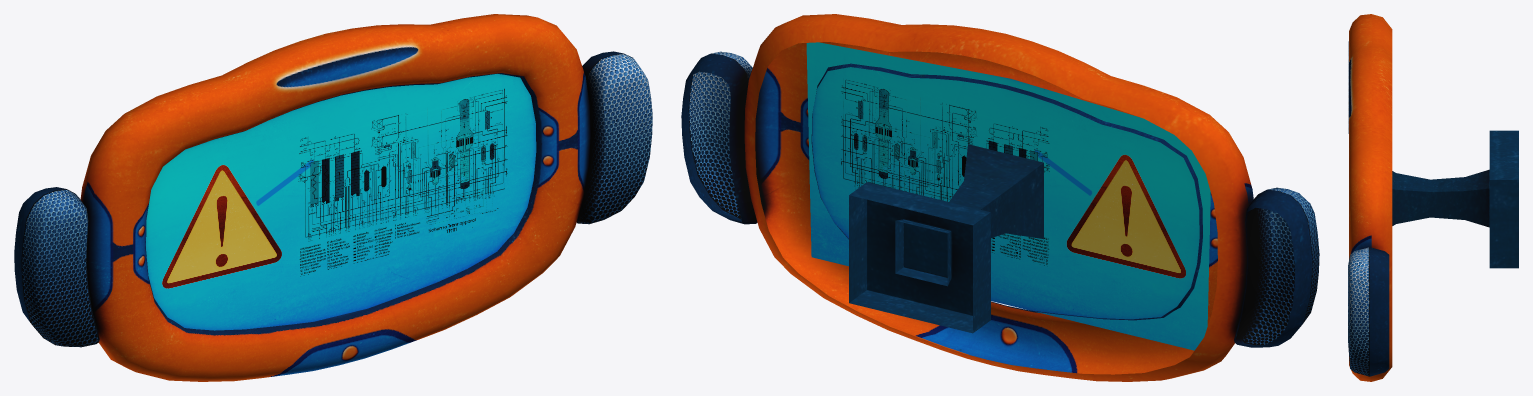
The model's file is WallMonitor.FBX.
3 renders of one model, left to right at view 1: azimuth 30°, elevation 25°; view 2: azimuth 150°, elevation 25°; view 3: azimuth 270°, elevation 25°, orthographic. The views are drawn at different scales.
Parts seen in each view (by area): view 1: Box211; view 2: Box211; view 3: Box211.
Part boxes in pixels (x1,y1,x2,y2): Box211: (14, 14, 652, 381); Box211: (681, 14, 1319, 381); Box211: (1348, 14, 1518, 381).
Bounding box in the file's own units: 198 × 98.68 × 57.56.
